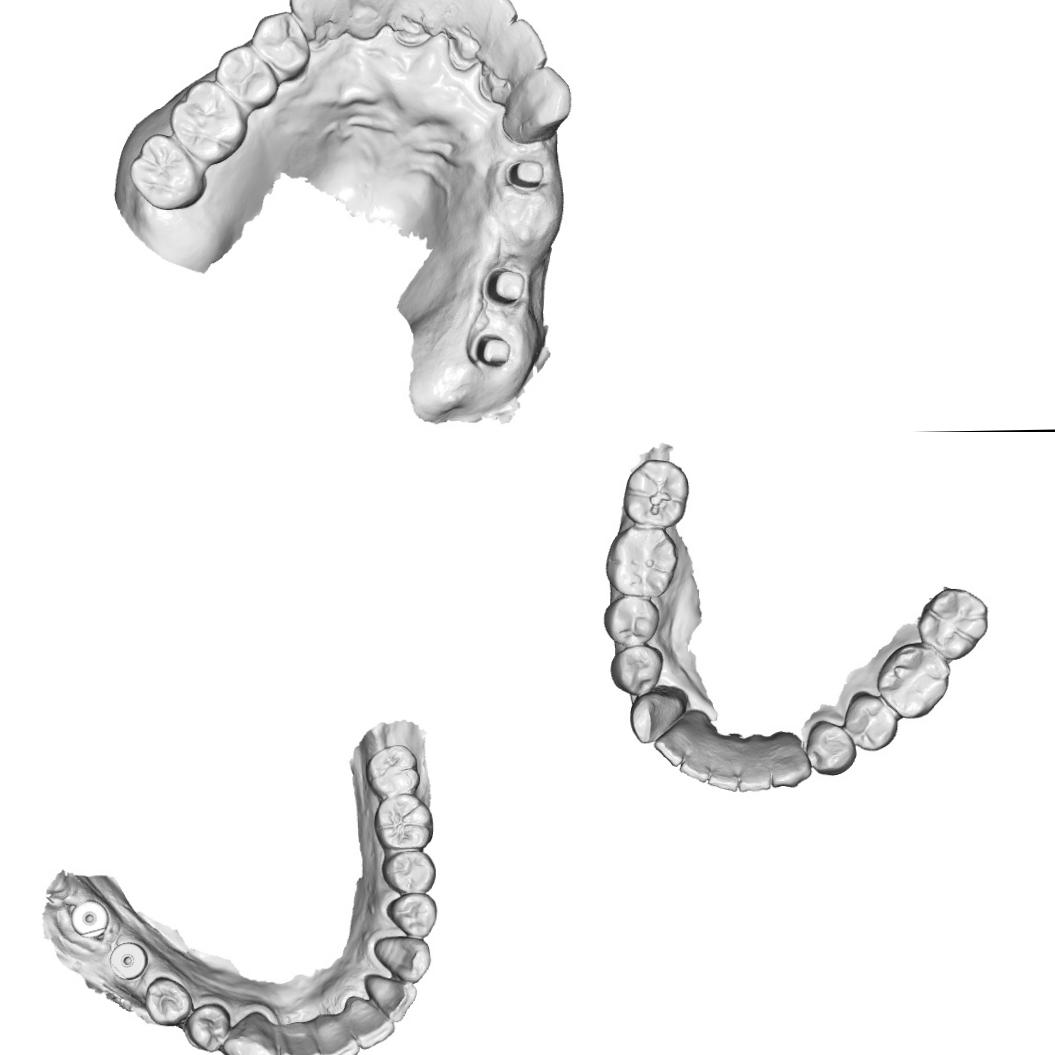abutment: (504, 152, 552, 202), (482, 265, 528, 308), (470, 328, 514, 371)
canine: (498, 64, 574, 144), (628, 690, 686, 744), (372, 934, 431, 983), (220, 1010, 278, 1055), (770, 730, 812, 788), (286, 0, 349, 38)
implant: (108, 940, 149, 980), (70, 898, 110, 938)
incisor: (488, 16, 550, 82), (457, 0, 519, 46), (736, 734, 771, 792), (398, 0, 466, 26), (652, 724, 690, 768), (382, 980, 418, 1023), (354, 1014, 396, 1050), (278, 1020, 321, 1055), (345, 0, 403, 25), (706, 756, 740, 794), (678, 750, 710, 784), (320, 1030, 360, 1055)
molar: (168, 79, 250, 166), (127, 132, 204, 213), (875, 641, 952, 720), (604, 524, 679, 599), (916, 587, 990, 661), (620, 457, 690, 529), (372, 794, 435, 850), (364, 744, 420, 798)
premolar: (213, 42, 281, 112), (247, 8, 312, 79), (842, 692, 902, 752), (602, 593, 661, 647), (804, 718, 858, 776), (609, 644, 665, 697), (384, 891, 438, 939), (144, 975, 192, 1028), (380, 850, 436, 894), (184, 1002, 230, 1054)
